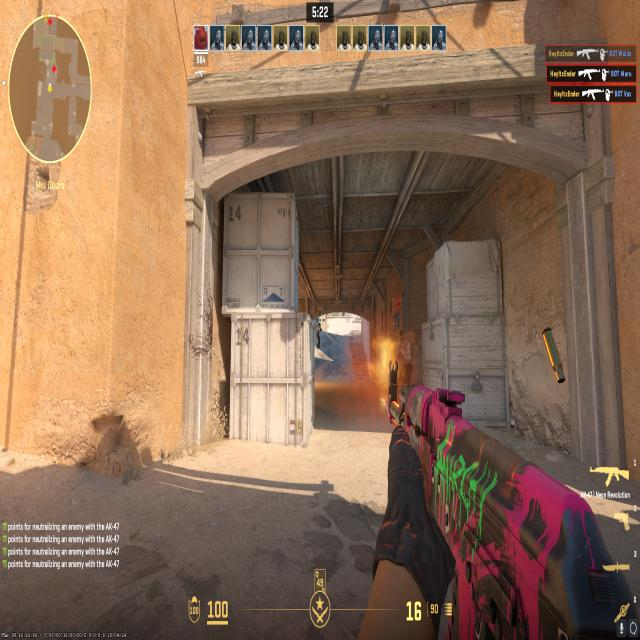t: (392, 327, 412, 384), (316, 321, 324, 349)
